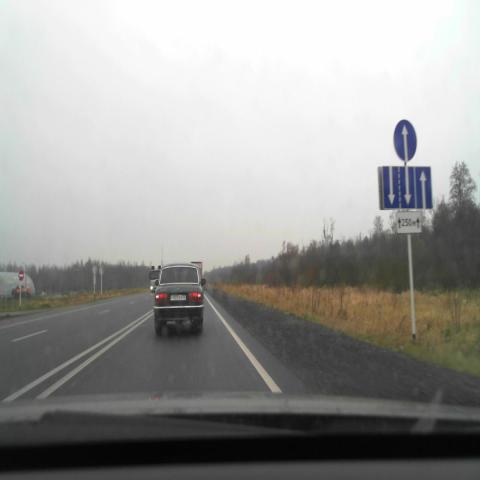5_15_7: (382, 166, 432, 209)
